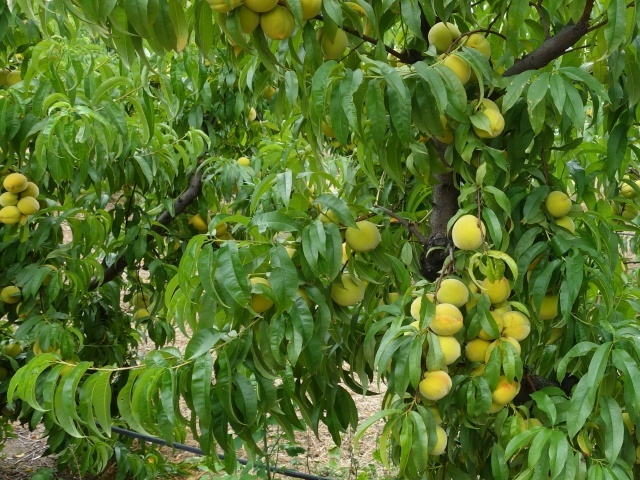peach: (450, 210, 490, 252), (259, 4, 298, 42), (418, 364, 455, 404), (428, 302, 468, 338), (435, 51, 476, 86), (243, 273, 276, 316), (328, 272, 366, 309), (426, 19, 464, 54), (344, 219, 381, 254), (426, 331, 463, 365), (468, 107, 506, 140), (480, 271, 515, 306), (504, 302, 534, 342), (434, 277, 471, 309), (459, 31, 494, 64), (544, 187, 575, 223), (318, 25, 350, 59), (230, 1, 263, 33), (531, 293, 563, 325), (464, 336, 495, 368), (491, 372, 519, 407), (407, 292, 438, 323), (477, 310, 506, 342), (467, 93, 502, 119), (425, 422, 451, 457), (552, 209, 580, 237), (288, 1, 326, 20), (1, 172, 30, 195), (13, 196, 41, 217), (1, 283, 25, 307), (187, 211, 211, 233), (18, 181, 42, 202), (129, 290, 152, 310), (12, 298, 32, 319), (1, 204, 19, 227), (131, 305, 151, 325)
